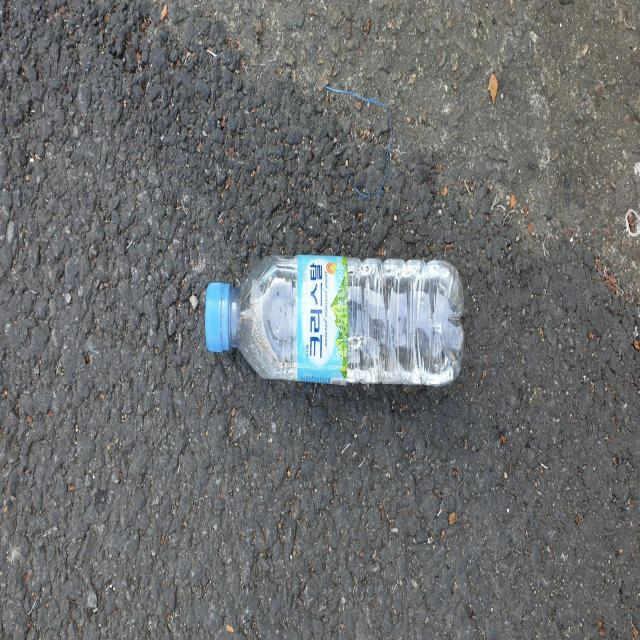plastic: (205, 254, 465, 385)
